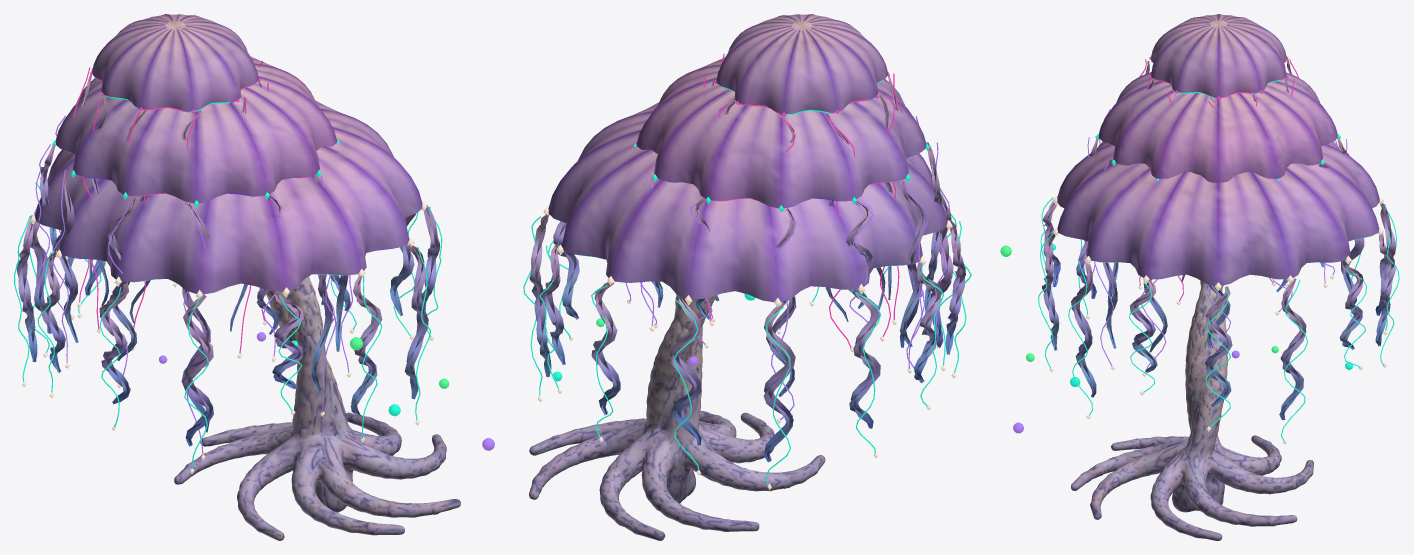
The model's file is agac_denizanasi.glb.
3 views of the same model, side by side, from view 1: azimuth 30°, elevation 25°; view 2: azimuth 150°, elevation 25°; view 3: azimuth 270°, elevation 25° (orthographic). The views are drawn at different scales.
Visible parts, largest first — view 1: agac_denizanasi_LOD0; view 2: agac_denizanasi_LOD0; view 3: agac_denizanasi_LOD0.
Boxes of the visible parts, x1=… form: agac_denizanasi_LOD0: x1=14, y1=14, x2=494, y2=540; agac_denizanasi_LOD0: x1=523, y1=14, x2=971, y2=540; agac_denizanasi_LOD0: x1=1000, y1=14, x2=1399, y2=540.
Size of what is drawn, in the model's own units: 7.37 by 8.97 by 7.53.
Materials: 2 (1 with a texture image).
